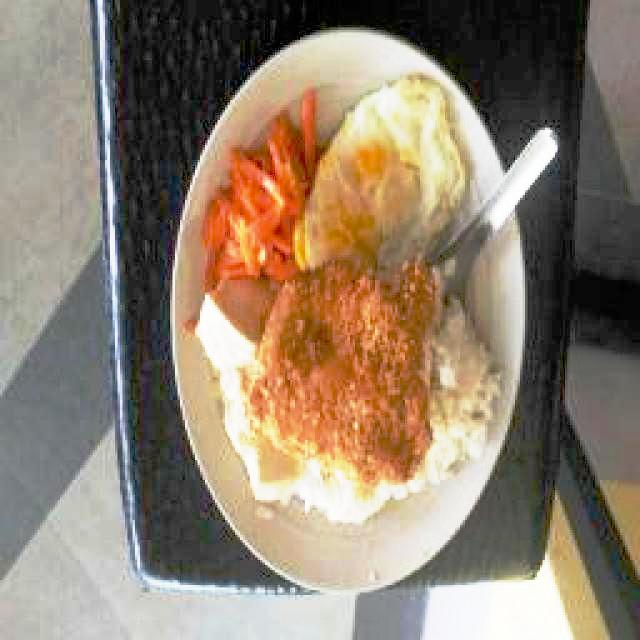carrot_eggs: (199, 88, 320, 294)
fried_chicken: (242, 253, 444, 491)
fried_eggs: (295, 72, 470, 272)
rice: (444, 306, 496, 470)
